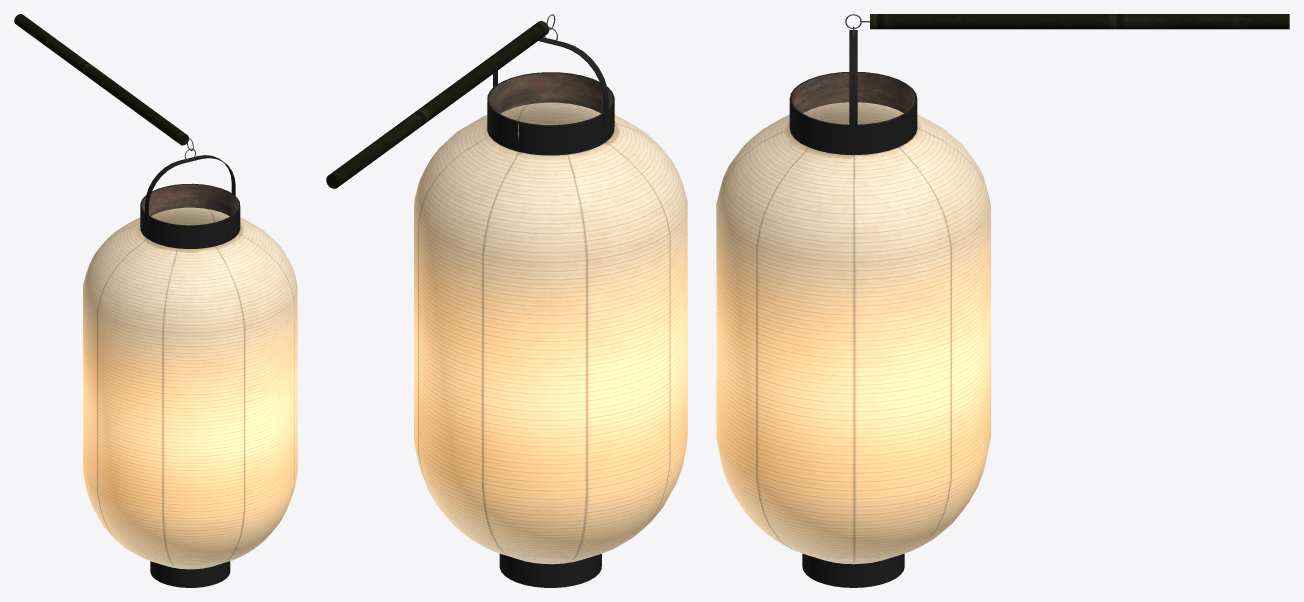
The model's file is Lantern_sketchfab.fbx.
3 renders of one model, left to right at view 1: azimuth 30°, elevation 25°; view 2: azimuth 150°, elevation 25°; view 3: azimuth 270°, elevation 25°, orthographic. The views are drawn at different scales.
Parts seen in each view (by area): view 1: Lantern_01_low, Lantern_05_low, Lantern_02_low; view 2: Lantern_01_low, Lantern_05_low, Lantern_02_low; view 3: Lantern_01_low, Lantern_05_low, Lantern_02_low.
Boxes of the visible parts, left/top/right/bottom form: Lantern_01_low: left=83, top=183, right=297, bottom=587; Lantern_05_low: left=14, top=14, right=188, bottom=145; Lantern_02_low: left=145, top=155, right=235, bottom=225; Lantern_01_low: left=414, top=72, right=687, bottom=587; Lantern_05_low: left=326, top=21, right=549, bottom=188; Lantern_02_low: left=493, top=37, right=608, bottom=124; Lantern_01_low: left=716, top=72, right=990, bottom=587; Lantern_05_low: left=870, top=14, right=1289, bottom=29; Lantern_02_low: left=849, top=30, right=857, bottom=136.
Bounding box in the file's own units: 30 × 66.54 × 62.64.
